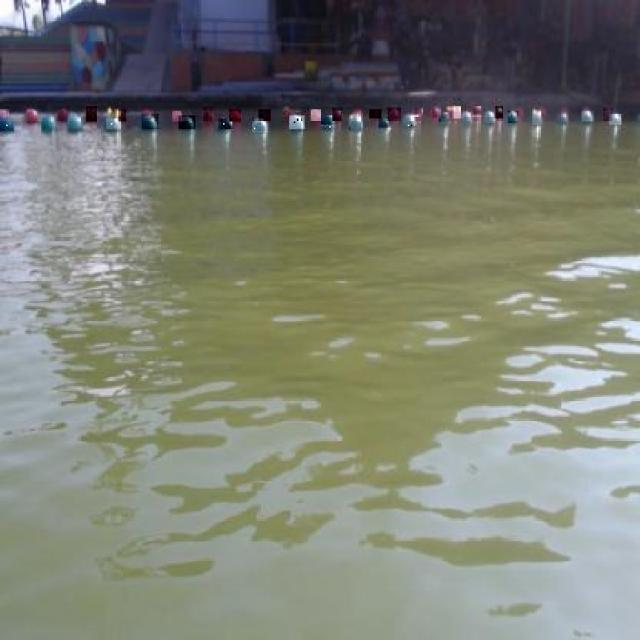green_ball: (41, 114, 55, 132), (68, 114, 82, 130), (0, 116, 14, 132), (348, 115, 363, 129), (252, 120, 268, 133), (142, 115, 158, 128), (290, 115, 303, 130), (106, 117, 120, 130), (580, 110, 594, 122), (179, 117, 195, 127), (608, 114, 622, 125), (404, 114, 415, 126), (321, 114, 332, 126), (484, 111, 494, 124), (557, 112, 567, 124), (507, 110, 517, 122), (440, 112, 450, 124), (532, 113, 542, 124), (461, 112, 471, 123), (379, 118, 391, 127), (219, 119, 231, 128)
red_ball: (283, 108, 300, 122), (228, 108, 242, 122), (202, 109, 217, 122), (446, 106, 461, 119), (25, 109, 38, 123), (387, 106, 399, 120), (411, 107, 423, 121), (87, 106, 97, 122), (602, 106, 612, 120), (141, 110, 154, 120), (537, 105, 547, 118), (58, 110, 68, 122), (172, 110, 182, 122), (259, 110, 271, 120), (430, 108, 440, 120), (311, 109, 320, 121), (370, 109, 381, 118), (118, 109, 126, 121), (333, 108, 341, 120), (495, 106, 503, 118), (0, 109, 9, 119), (514, 107, 522, 118), (351, 110, 364, 116), (473, 105, 481, 114), (559, 107, 568, 113), (582, 104, 591, 110)
